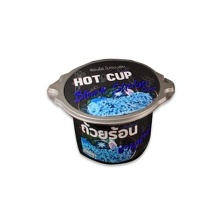paper_cup: (42, 50, 179, 168)
